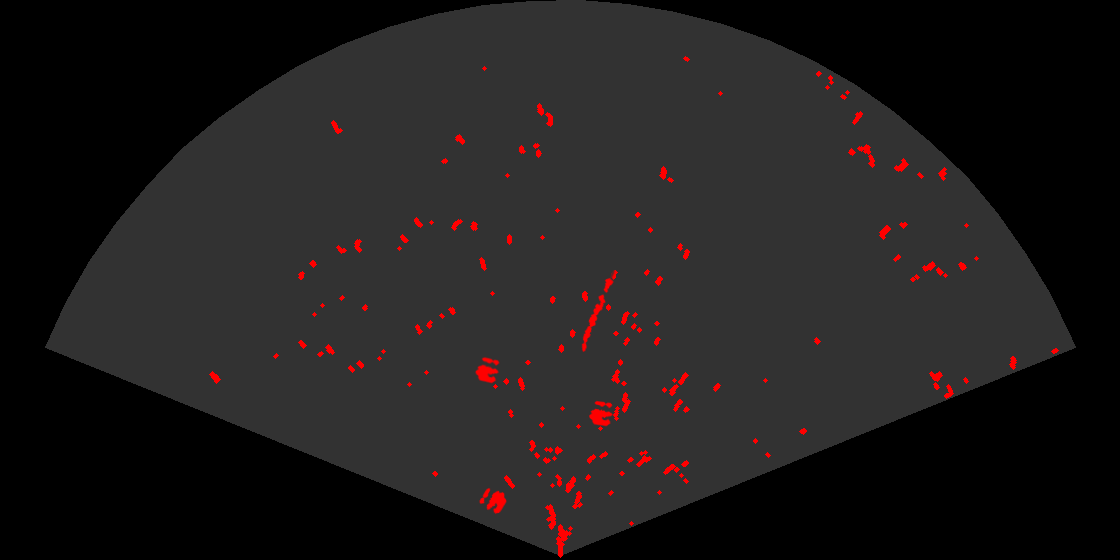ball: (478, 486, 508, 516), (473, 355, 501, 385), (588, 399, 614, 428)
chain: (580, 270, 616, 354)
